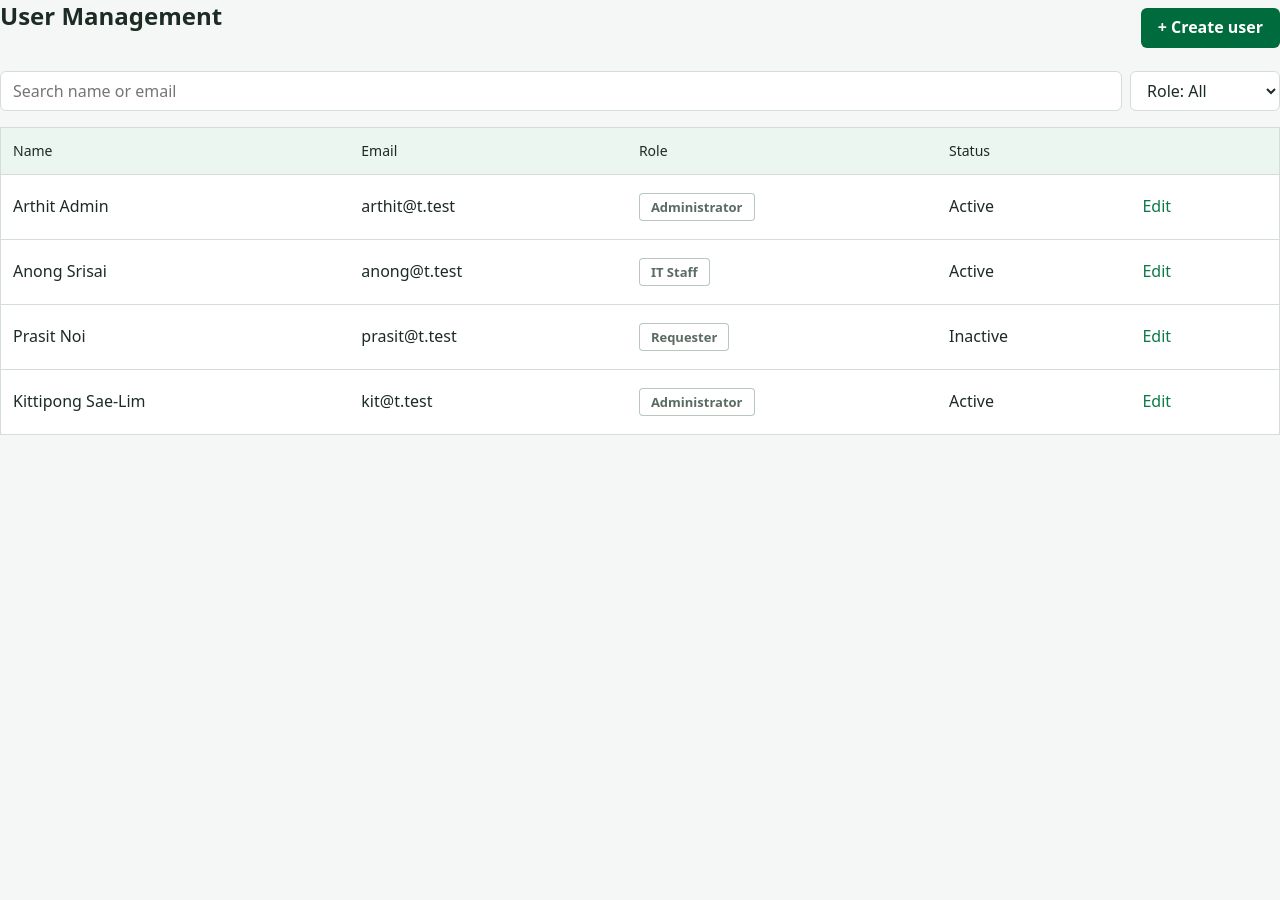
User Management › UI-29: each guard refusal shows its specific message beside its control › a duplicate email lands beside the Email field
The image size is (1280, 900).
Step 1. Click the button with aria-label "Edit Anong Srisai" → (1157, 272), box x1=1133 y1=252 x2=1180 y2=292
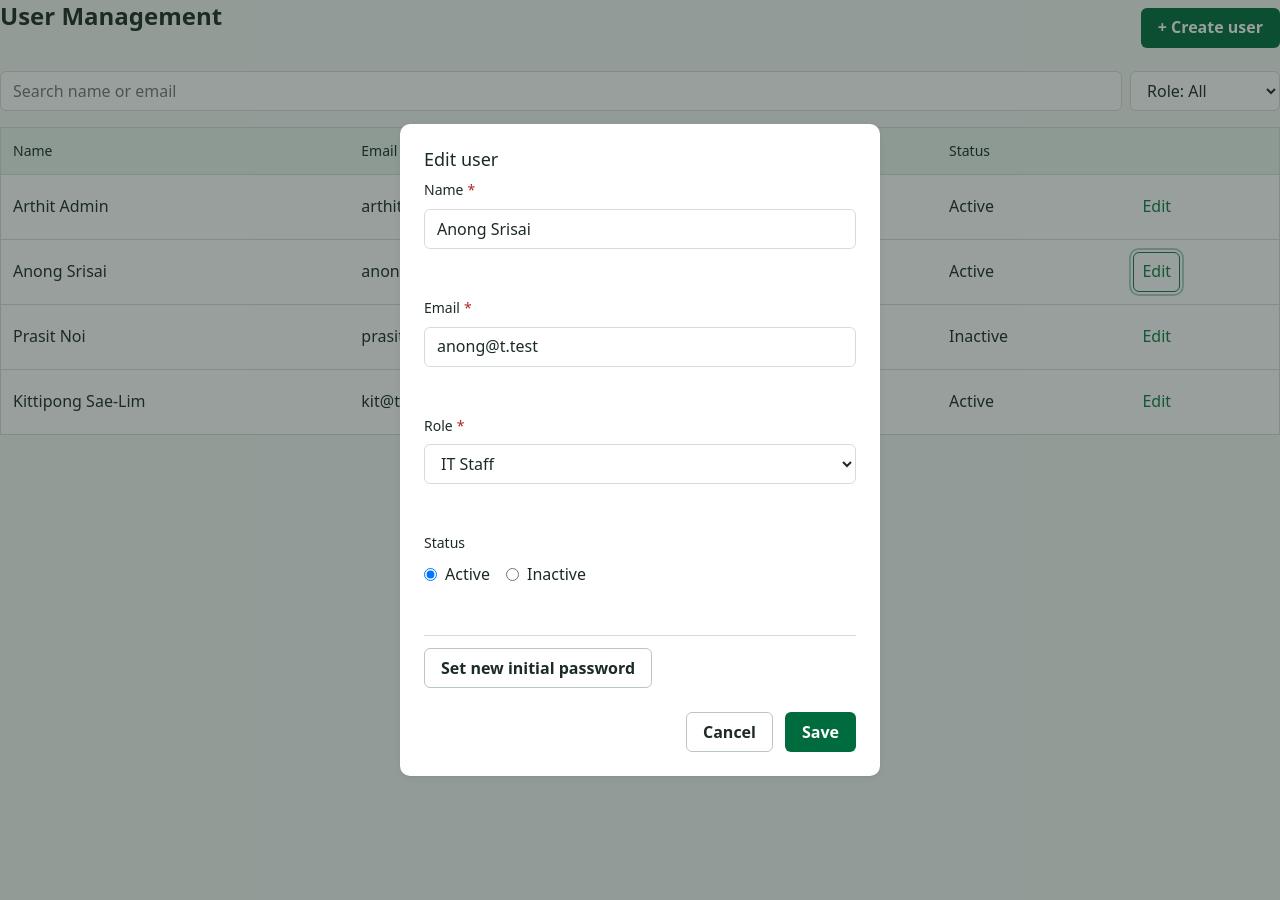
Step 2. Click the button "Save" → (820, 732), box x1=785 y1=712 x2=856 y2=752
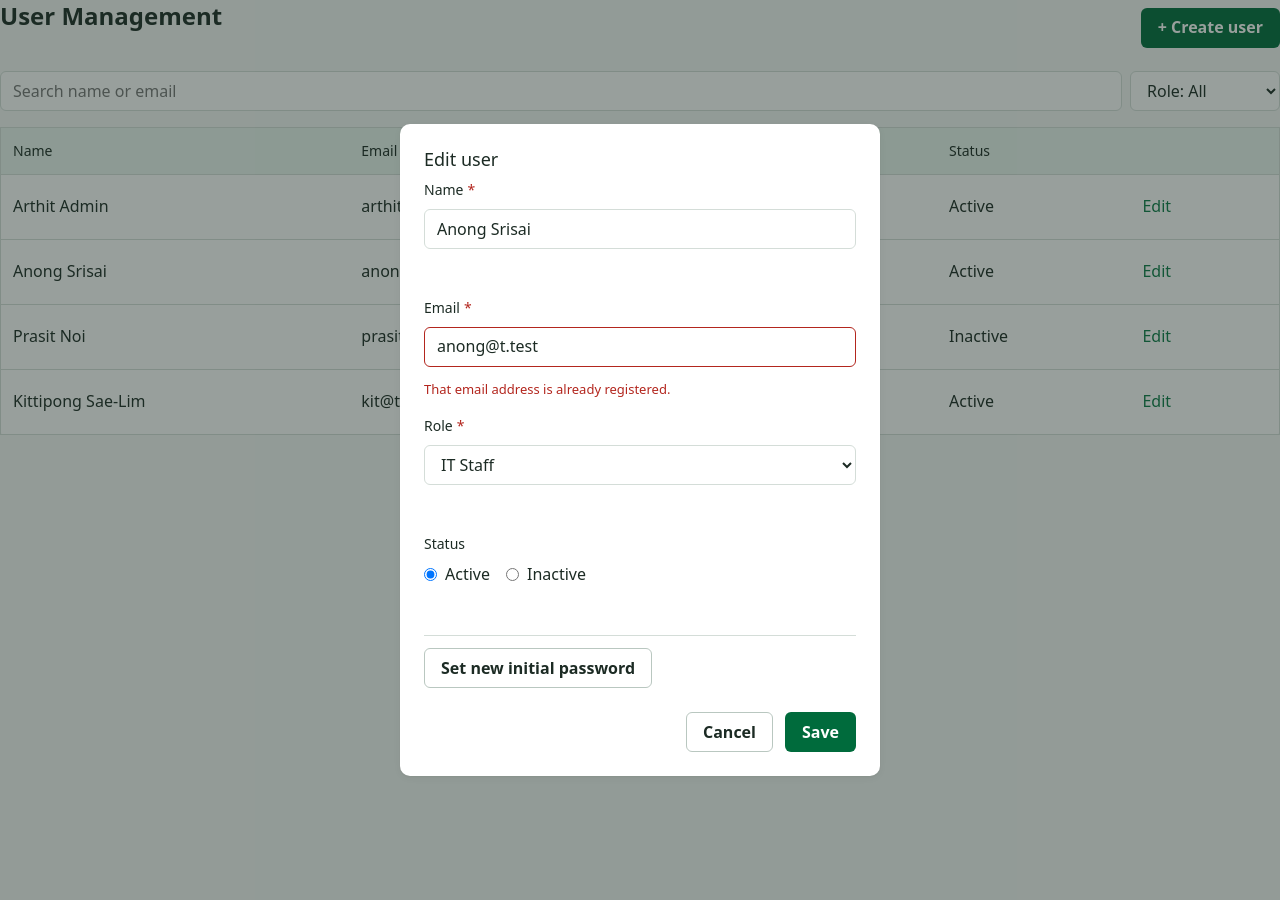
Check: the text "That email address is already registered." is shown, box x1=424 y1=380 x2=670 y2=398
